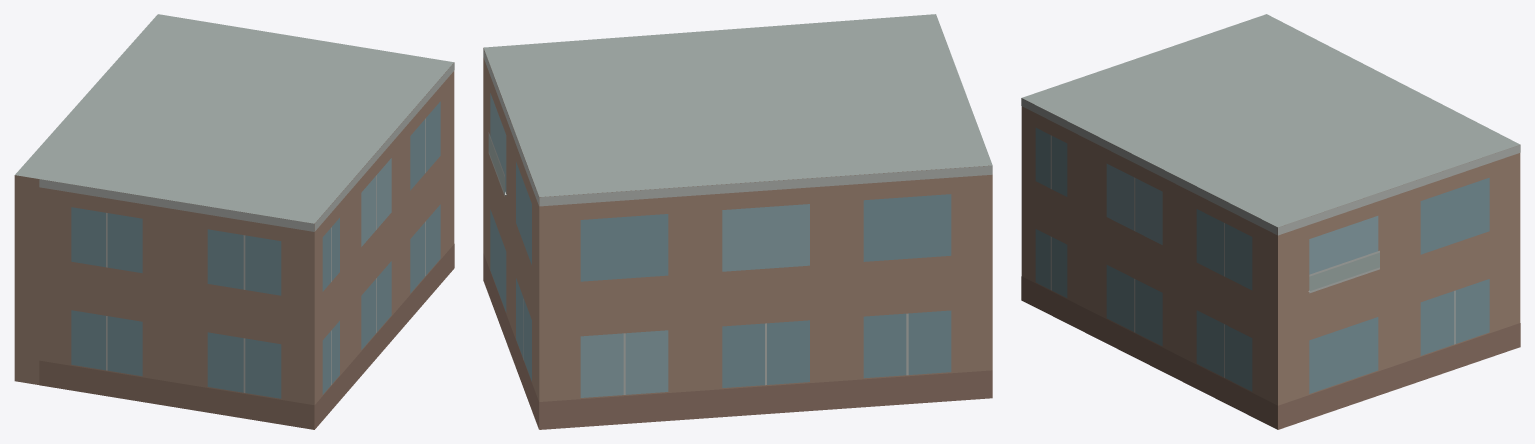
The model's file is survey-upis-32651190.glb.
The picture shows the model from 3 angles, left to right: view 1: azimuth 30°, elevation 25°; view 2: azimuth 150°, elevation 25°; view 3: azimuth 270°, elevation 25°; orthographic projection. The views are drawn at different scales.
Parts seen in each view (by area): view 1: survey-upis-32651190.tmp; view 2: survey-upis-32651190.tmp; view 3: survey-upis-32651190.tmp.
Part boxes in pixels (bbox=[...]): survey-upis-32651190.tmp: bbox=[14, 14, 454, 429]; survey-upis-32651190.tmp: bbox=[483, 14, 992, 429]; survey-upis-32651190.tmp: bbox=[1021, 14, 1520, 429].
Bounding box in the file's own units: 13.8 × 6.1 × 13.64.
